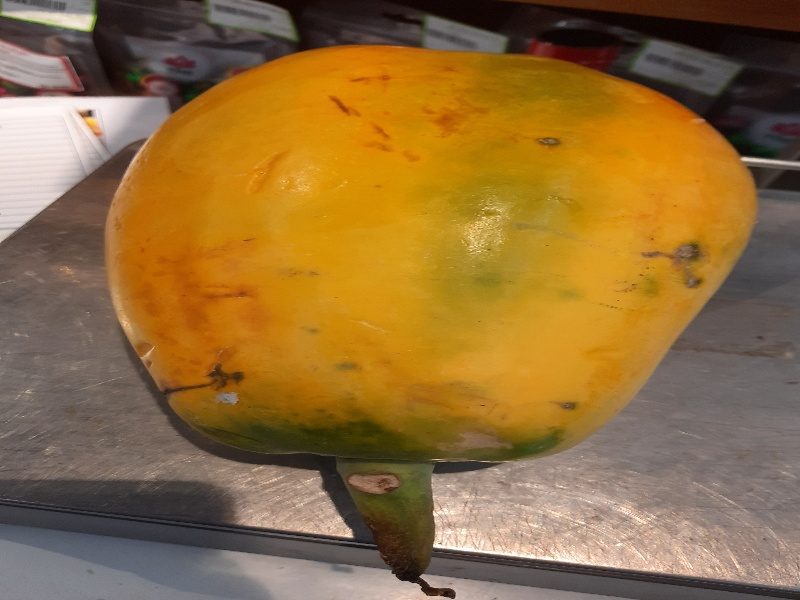fruit: (97, 43, 764, 583)
